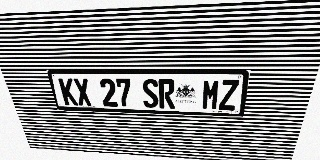2: (99, 78, 118, 107)
7: (115, 78, 133, 107)
K: (58, 78, 78, 106)
M: (201, 79, 221, 110)
R: (158, 79, 175, 109)
S: (142, 79, 159, 108)
X: (73, 78, 93, 106)
Z: (219, 79, 240, 110)
